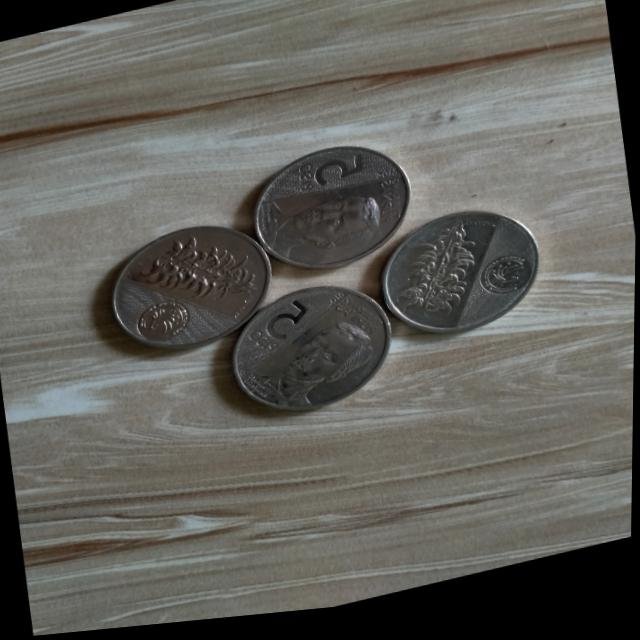5_New_Back: (131, 222, 266, 325), (389, 218, 501, 331)
5_New_Front: (231, 301, 324, 371), (283, 142, 378, 208)
